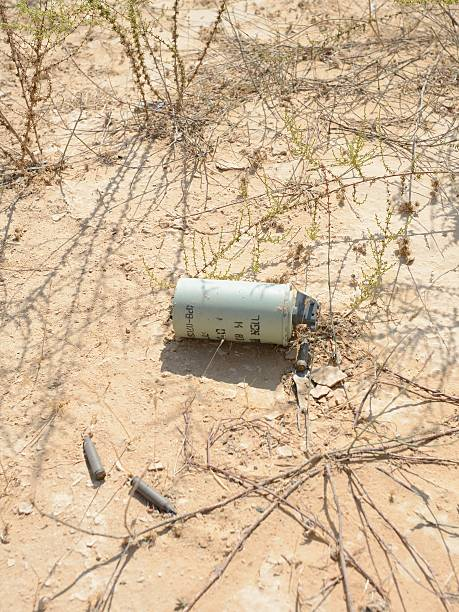e1: (172, 281, 316, 344)
